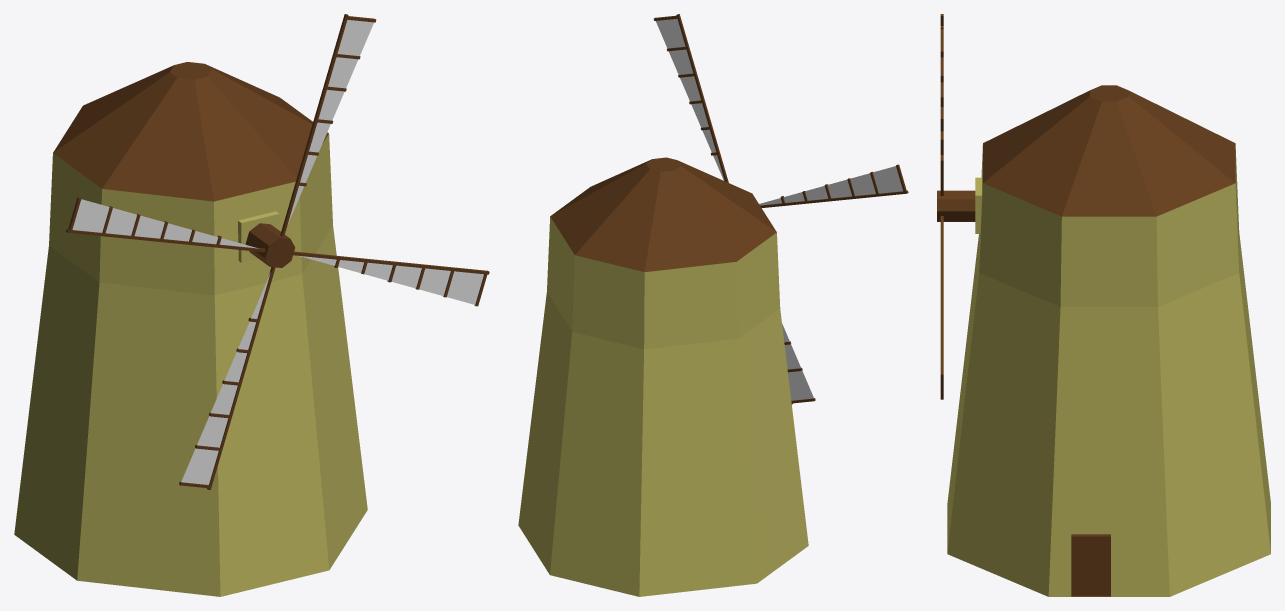
The model's file is windmill.glb.
3 views of the same model, side by side, from view 1: azimuth 30°, elevation 25°; view 2: azimuth 150°, elevation 25°; view 3: azimuth 270°, elevation 25° (orthographic). The views are drawn at different scales.
Parts seen in each view (by area): view 1: Cube.009, Plane; view 2: Cube.009, Plane; view 3: Cube.009, Plane.
Part boxes in pixels (left/top/right/bottom): Cube.009: left=14, top=62, right=367, bottom=596; Plane: left=66, top=14, right=489, bottom=489; Cube.009: left=518, top=157, right=808, bottom=596; Plane: left=654, top=14, right=908, bottom=404; Cube.009: left=947, top=85, right=1270, bottom=596; Plane: left=937, top=14, right=975, bottom=399.
Size of the model in its own units: 12.48 by 15.66 by 8.87.
